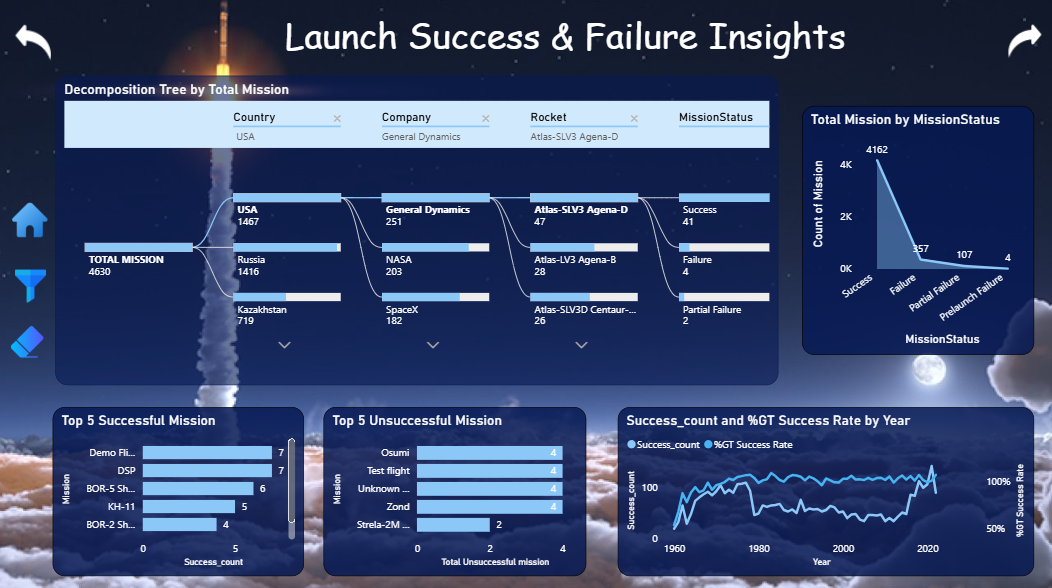

This screenshot's page, from the dashboard's own definition file:
{"tool":"powerbi","page":{"name":"Page 2","canvas":[1280,720],"ordinal":2},"visuals":[{"type":"textbox","title":"Launch Success & Failure Insights","box":[341.7,11.7,693.3,66.7],"z":0},{"type":"decompositionTreeVisual","title":"Decomposition Tree by Total Mission","fields":{"Analyze":["space_missions.TOTAL_MISSION"],"ExplainBy":["space_missions.Country","space_missions.Company","space_missions.Rocket","space_missions.MissionStatus"]},"box":[68.3,91.7,876.7,375],"z":1000},{"type":"areaChart","title":"Total Mission by MissionStatus","fields":{"Category":["space_missions.MissionStatus"],"Y":["CountNonNull(space_missions.Mission)"]},"box":[973.3,128.3,281.7,301.7],"z":2000},{"type":"barChart","title":"Top 5 Successful Mission","fields":{"Category":["space_missions.Mission"],"Y":["space_missions.Success_count"]},"box":[65,493.3,305,205],"z":3000},{"type":"barChart","title":"Top 5 Unsuccessful Mission","fields":{"Category":["space_missions.Mission"],"Y":["space_missions.failure_count"]},"box":[393.3,493.3,318.3,205],"z":4000},{"type":"lineChart","fields":{"Category":["space_missions.Year"],"Y":["space_missions.Success_count"],"Y2":["Divide(space_missions.Success Rate, ScopedEval(space_missions.Success Rate, []))"]},"box":[750,493.3,505,205],"z":5000},{"type":"image","box":[14.5,24.2,53.2,53.2],"z":6000},{"type":"image","box":[1218.5,22.6,50,53.2],"z":7000},{"type":"image","box":[5,240,65,53.3],"z":8000},{"type":"image","box":[11.7,321.7,53.3,50],"z":9000},{"type":"image","box":[5,386.7,58.3,55],"z":10000}]}

Visuals, with their boxes in screenshot pixels (x1, y1, x2, y2), scaled from the page's 1280x720 canvas onto the 1052x588 screenshot:
"Launch Success & Failure Insights" textbox: [left=281, top=10, right=851, bottom=64]
"Decomposition Tree by Total Mission" decompositionTreeVisual: [left=56, top=75, right=777, bottom=381]
"Total Mission by MissionStatus" areaChart: [left=800, top=105, right=1031, bottom=351]
"Top 5 Successful Mission" barChart: [left=53, top=403, right=304, bottom=570]
"Top 5 Unsuccessful Mission" barChart: [left=323, top=403, right=585, bottom=570]
lineChart - space_missions.Year x space_missions.Success_count: [left=616, top=403, right=1031, bottom=570]
image: [left=12, top=20, right=56, bottom=63]
image: [left=1001, top=18, right=1043, bottom=62]
image: [left=4, top=196, right=58, bottom=240]
image: [left=10, top=263, right=53, bottom=304]
image: [left=4, top=316, right=52, bottom=361]
